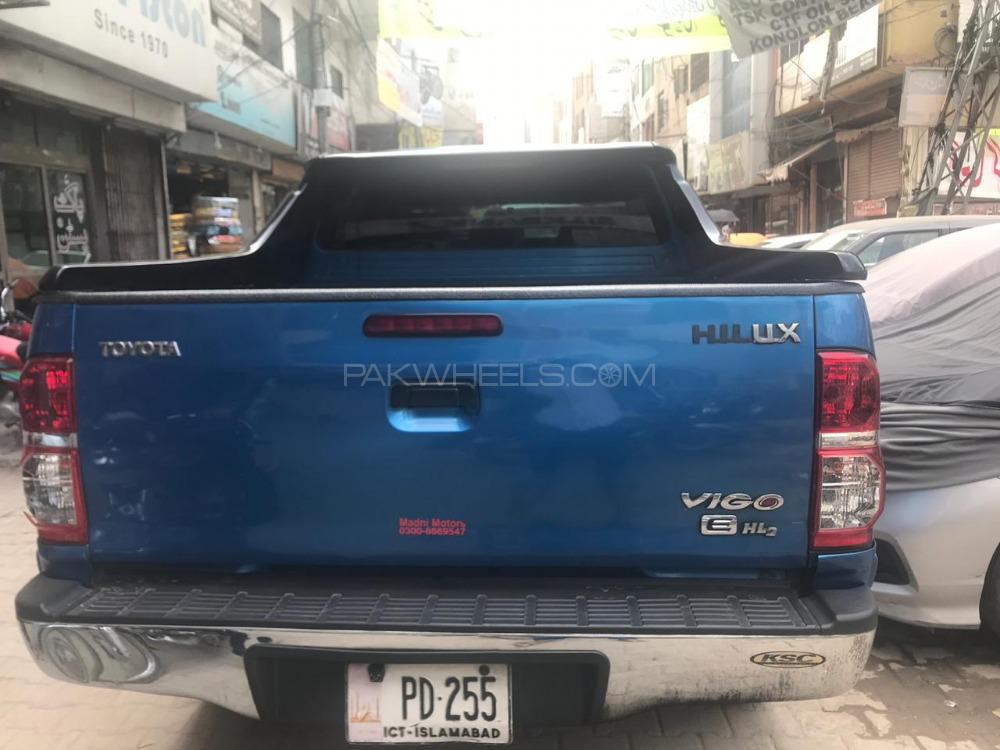license plate: (347, 666, 509, 739)
